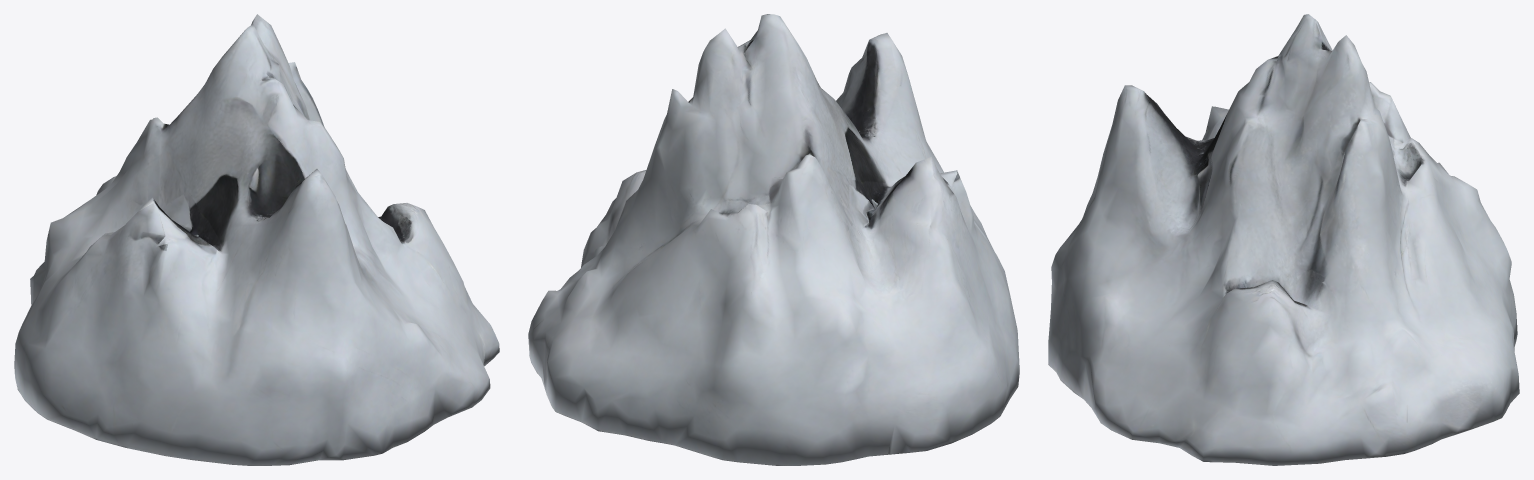
The model's file is testMountain.glb.
3 views of the same model, side by side, from view 1: azimuth 30°, elevation 25°; view 2: azimuth 150°, elevation 25°; view 3: azimuth 270°, elevation 25° (orthographic). The views are drawn at different scales.
Visible parts, largest first — view 1: Mesh_0; view 2: Mesh_0; view 3: Mesh_0.
Boxes of the visible parts, x1,y1,x2,y2 form: Mesh_0: [14, 14, 499, 465]; Mesh_0: [528, 14, 1019, 465]; Mesh_0: [1048, 14, 1519, 465].
Bounding box in the file's own units: 2.61 × 2 × 2.46.
Materials: 1 (1 with a texture image).
